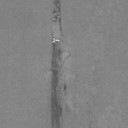slag inclusion: (50, 34, 62, 128), (52, 0, 64, 37), (62, 80, 67, 94)
